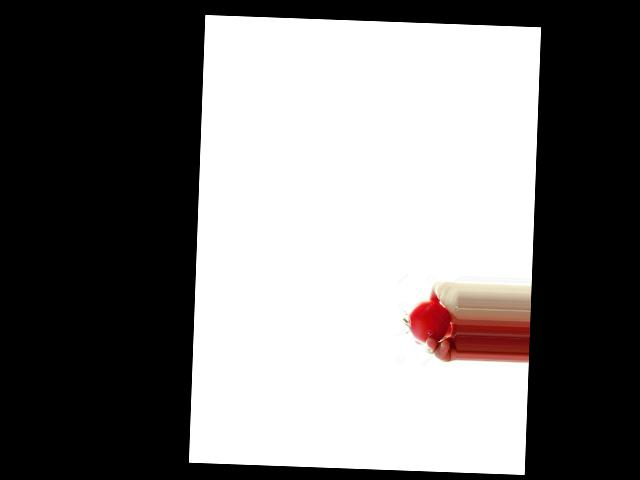tomato: (406, 299, 450, 345)
